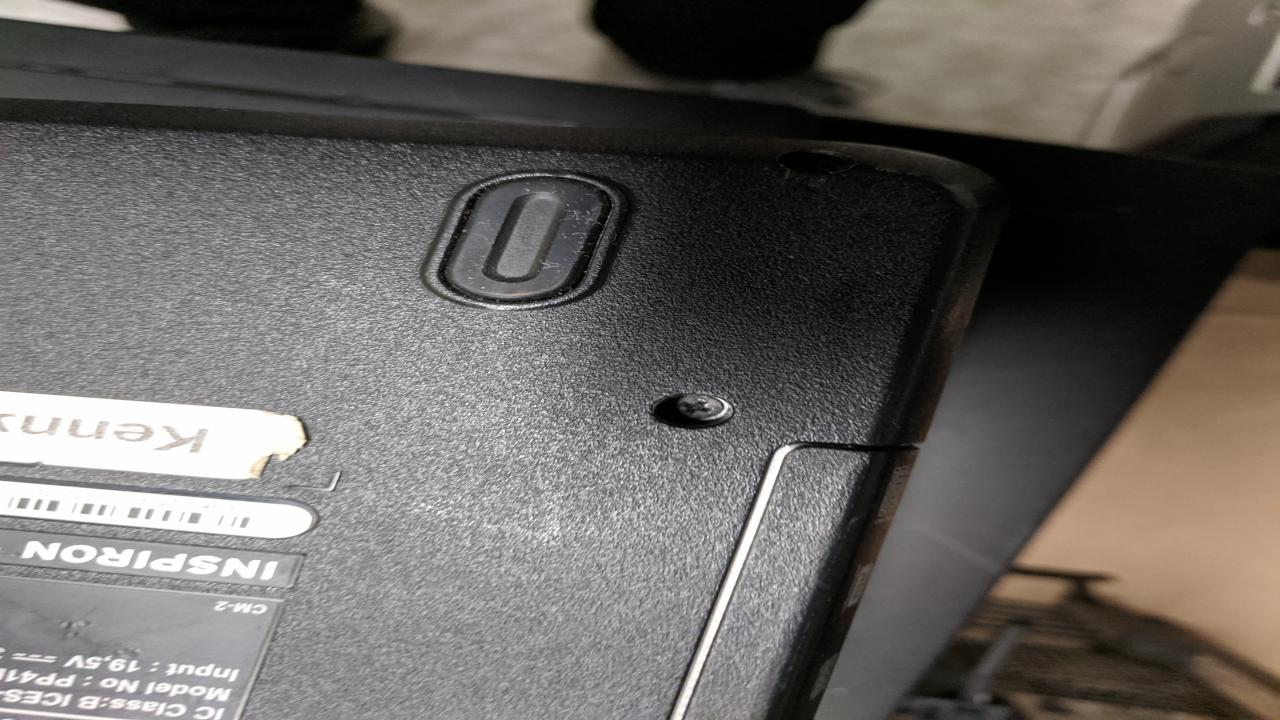CRS: (661, 388, 736, 428)
